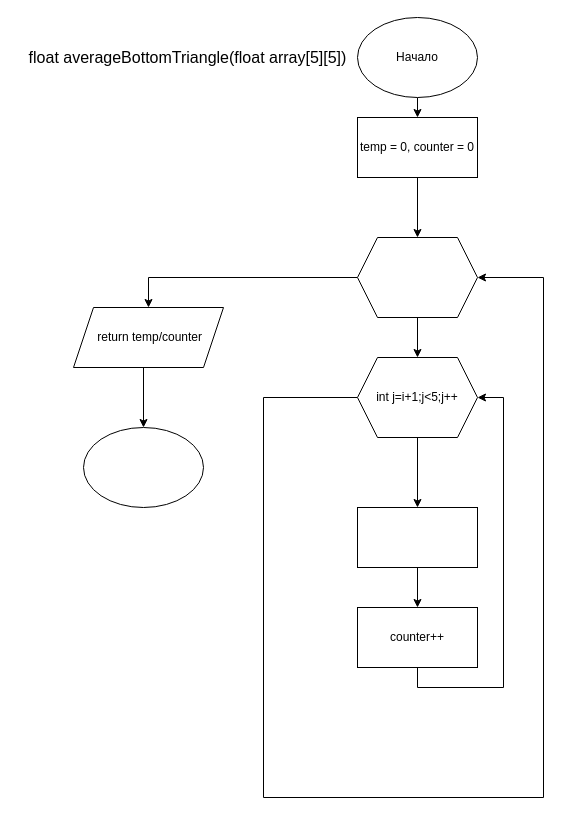
The diagram is 569 pixels wide and 823 high, and some of its shapes have lost their labels. Here are the shapes that lost their labels. From the top down, the box of each, then its label:
(356, 236, 478, 318): int i=0;i<5;i++
(82, 426, 204, 508): Конец
(356, 506, 478, 568): temp+=array[j][i]
